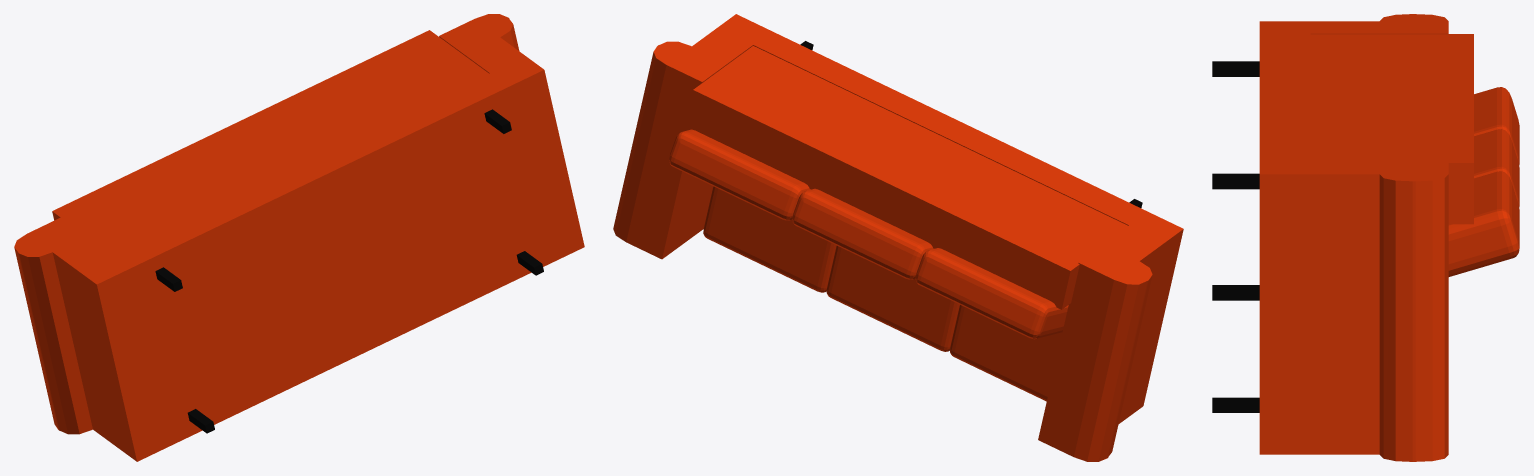
The model's file is Couch.fbx.
3 renders of one model, left to right at view 1: azimuth 30°, elevation 25°; view 2: azimuth 150°, elevation 25°; view 3: azimuth 270°, elevation 25°, orthographic. The views are drawn at different scales.
Parts seen in each view (by area): view 1: imagetostl_mesh0, imagetostl_mesh1; view 2: imagetostl_mesh0, imagetostl_mesh1, imagetostl_mesh4, imagetostl_mesh3, imagetostl_mesh7, imagetostl_mesh6, imagetostl_mesh5, imagetostl_mesh2; view 3: imagetostl_mesh0, imagetostl_mesh1, imagetostl_mesh5, imagetostl_mesh6, imagetostl_mesh7, imagetostl_mesh9, imagetostl_mesh10, imagetostl_mesh11, imagetostl_mesh8.
Part boxes in pixels (x1,y1,x2,y2): imagetostl_mesh0: (14, 14, 584, 461); imagetostl_mesh1: (52, 30, 488, 253); imagetostl_mesh0: (613, 14, 1183, 461); imagetostl_mesh1: (684, 46, 1127, 309); imagetostl_mesh4: (703, 186, 836, 292); imagetostl_mesh3: (826, 246, 959, 351); imagetostl_mesh7: (915, 248, 1068, 339); imagetostl_mesh6: (792, 188, 933, 279); imagetostl_mesh5: (669, 129, 810, 220); imagetostl_mesh2: (950, 305, 1062, 401); imagetostl_mesh0: (1259, 14, 1448, 461); imagetostl_mesh1: (1310, 34, 1473, 224); imagetostl_mesh5: (1448, 171, 1519, 276); imagetostl_mesh6: (1474, 129, 1519, 207); imagetostl_mesh7: (1474, 87, 1519, 164); imagetostl_mesh9: (1212, 173, 1259, 189); imagetostl_mesh10: (1212, 61, 1259, 76); imagetostl_mesh11: (1212, 285, 1259, 300); imagetostl_mesh8: (1212, 397, 1259, 412).
Size of the model in its own units: 2.11e+07 by 1.15e+07 by 7817348.
